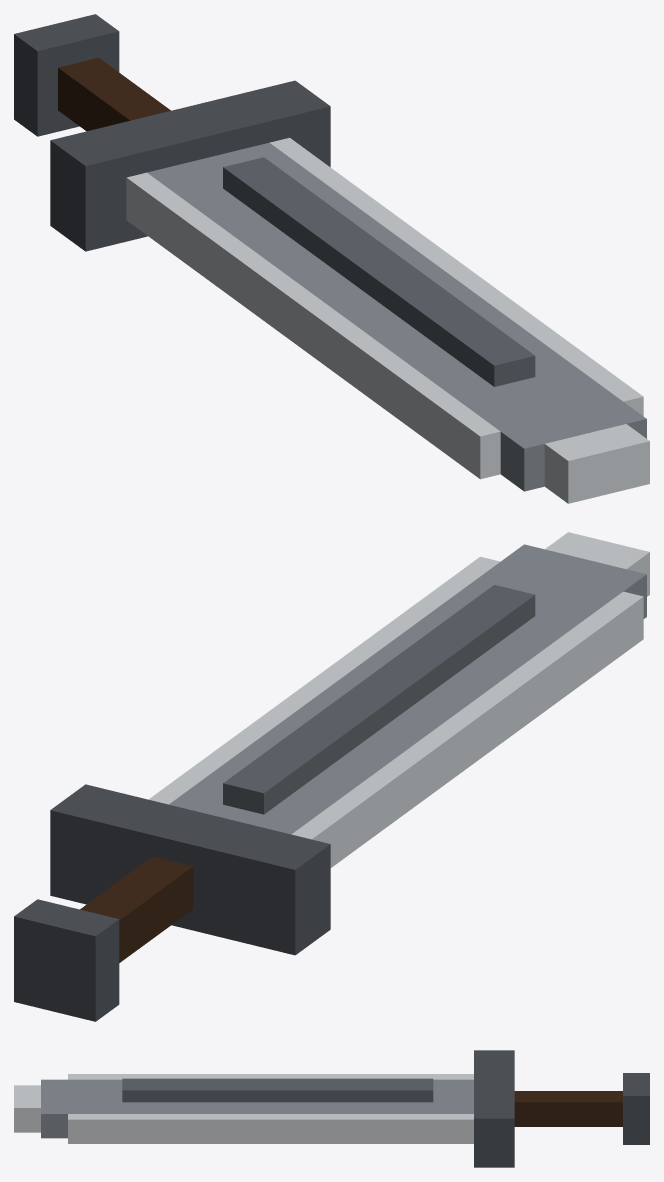
File: vox_greatsword.glb
3 renders of one model, top to bottom at view 1: azimuth 30°, elevation 25°; view 2: azimuth 150°, elevation 25°; view 3: azimuth 270°, elevation 25°, orthographic. The views are drawn at different scales.
Parts seen in each view (by area): view 1: vox_greatsword; view 2: vox_greatsword; view 3: vox_greatsword.
Boxes of the visible parts, bbox=[...] form: vox_greatsword: bbox=[14, 14, 649, 503]; vox_greatsword: bbox=[14, 532, 649, 1021]; vox_greatsword: bbox=[14, 1050, 649, 1167].
Size of the model in its own units: 0.24 by 0.08 by 0.94.
